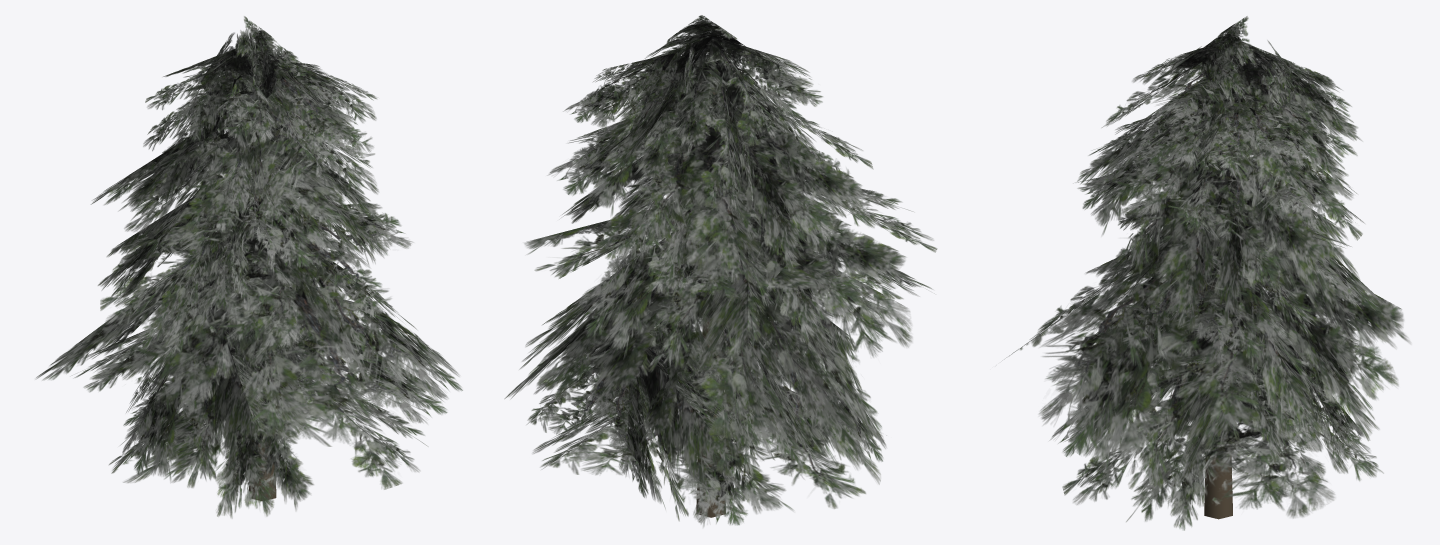
The model's file is snow_pine_2.glb.
3 renders of one model, left to right at view 1: azimuth 30°, elevation 25°; view 2: azimuth 150°, elevation 25°; view 3: azimuth 270°, elevation 25°, orthographic. The views are drawn at different scales.
Visible parts, largest first — view 1: snow_pine_2; view 2: snow_pine_2; view 3: snow_pine_2.
Part boxes in pixels (left/top/right/bottom): snow_pine_2: left=36, top=16, right=462, bottom=518; snow_pine_2: left=504, top=15, right=937, bottom=527; snow_pine_2: left=1005, top=16, right=1411, bottom=530.
Size of the model in its own units: 4.2 by 5.24 by 4.34.
Materials: 2 (1 with a texture image).
